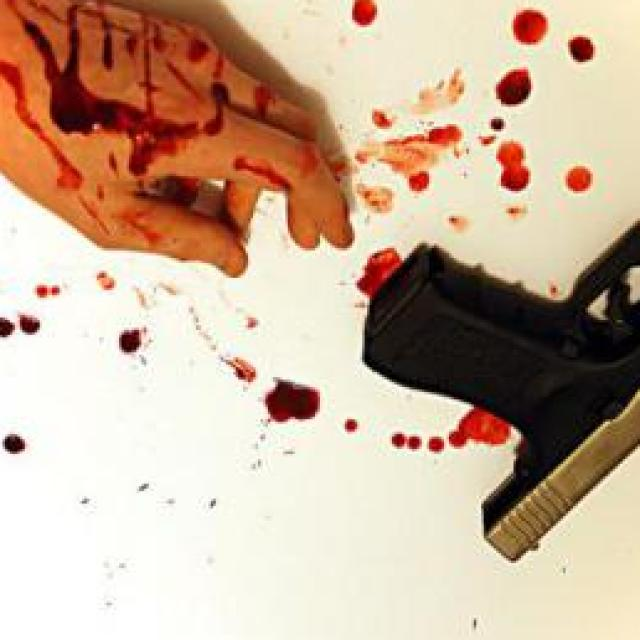pistol: (365, 219, 640, 566)
